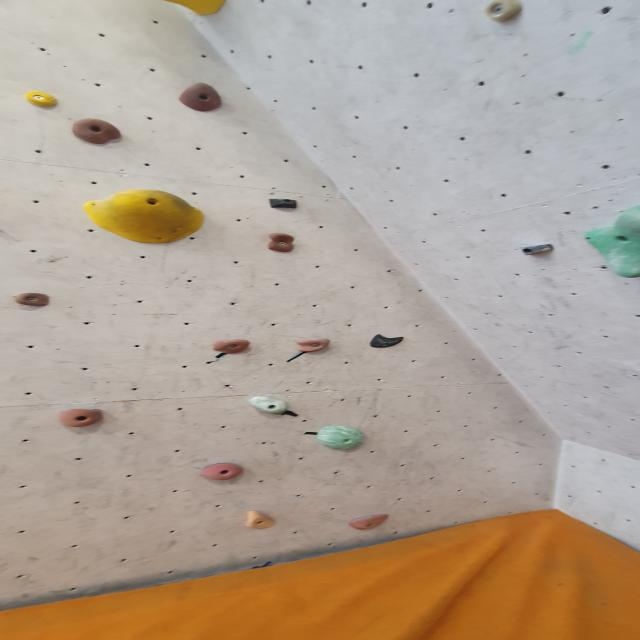Crimp: (481, 0, 529, 26), (21, 90, 65, 112), (346, 512, 391, 532)
Jug: (582, 200, 640, 282), (71, 118, 127, 147), (176, 82, 224, 115), (56, 409, 109, 430), (200, 462, 248, 482), (266, 232, 301, 255), (209, 339, 254, 356), (11, 291, 53, 308), (294, 339, 333, 356)
Pinch: (249, 393, 292, 416), (243, 511, 280, 533), (519, 243, 556, 258), (265, 198, 300, 212)
Sloper: (81, 187, 208, 246), (127, 0, 234, 20), (316, 425, 368, 452)
